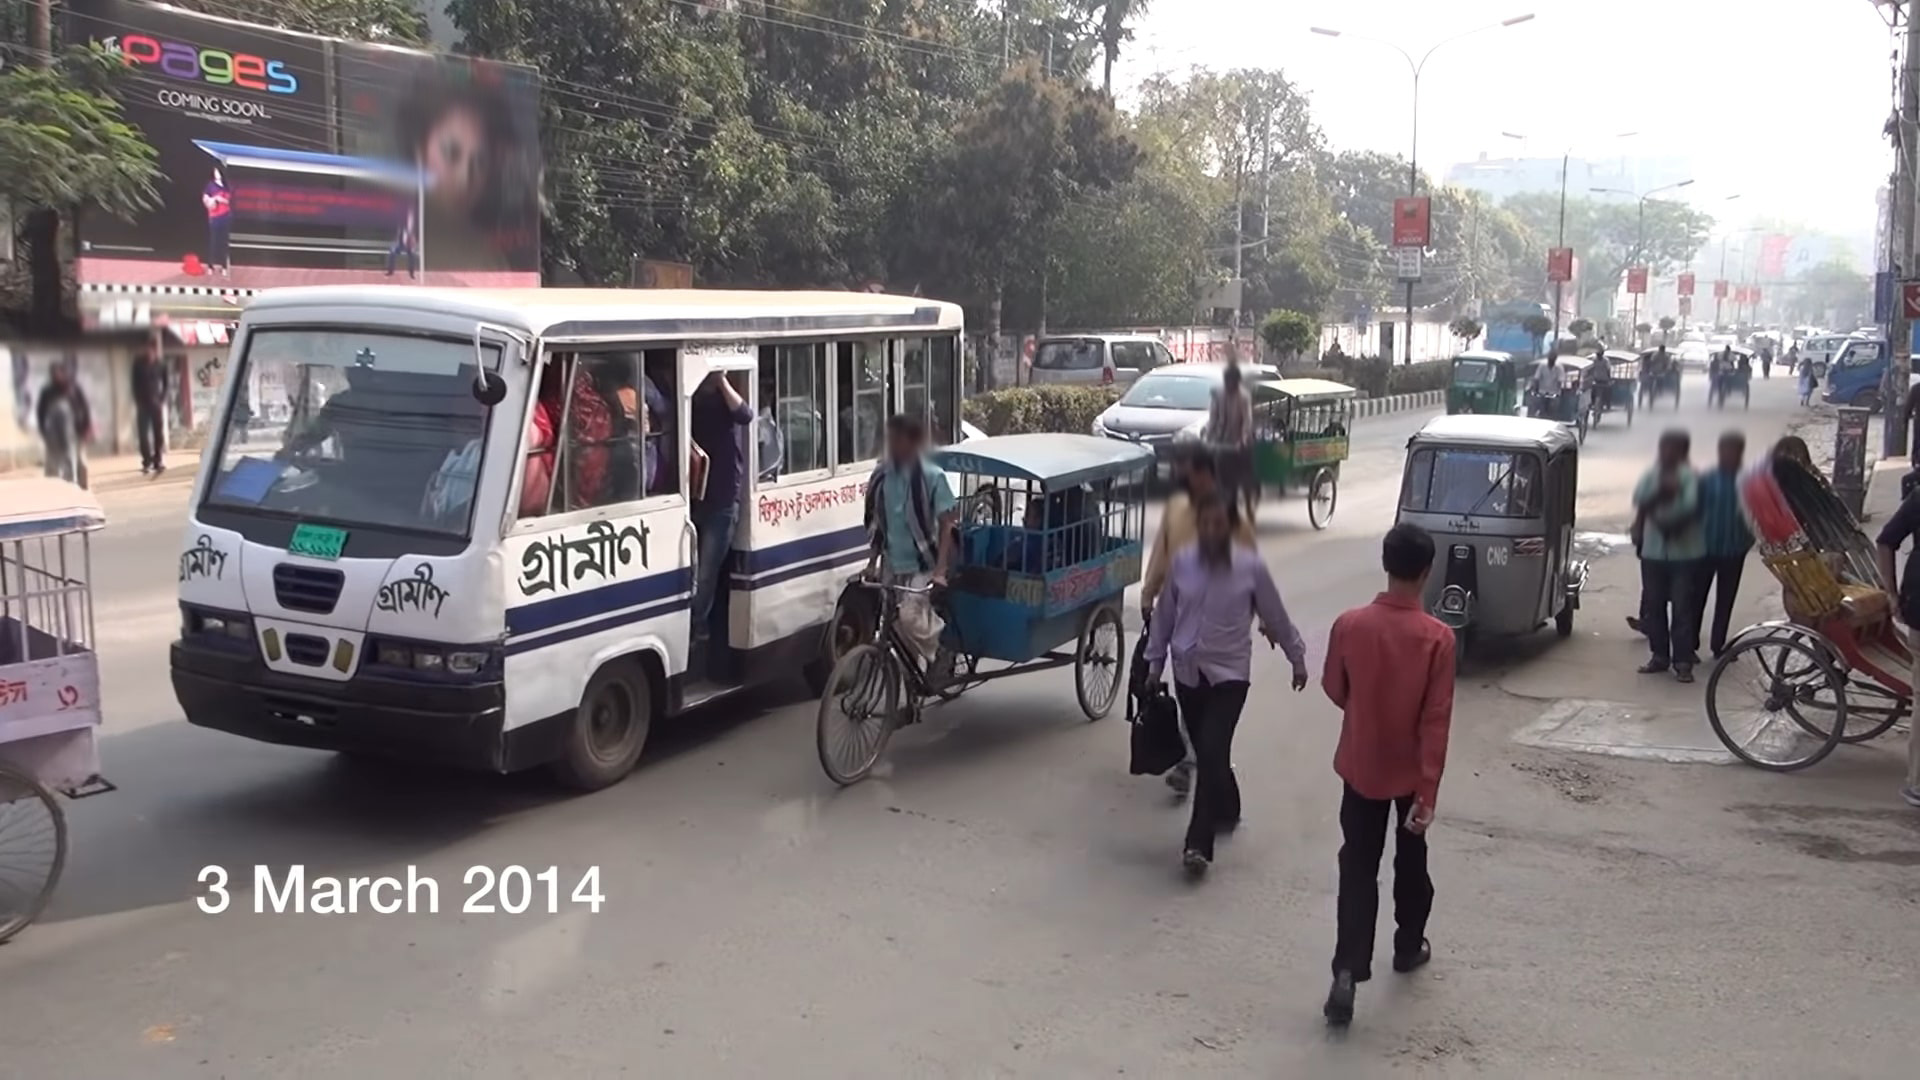bus: (171, 282, 967, 791)
car: (1092, 359, 1284, 484), (1026, 334, 1185, 386)
cng: (1393, 418, 1586, 676), (1443, 347, 1524, 418)
rickshaw: (1705, 439, 1920, 764)
truck: (1826, 339, 1920, 411)
van: (814, 433, 1153, 793), (1, 476, 117, 942), (1207, 372, 1357, 534), (1586, 347, 1638, 433), (1530, 357, 1588, 426)
